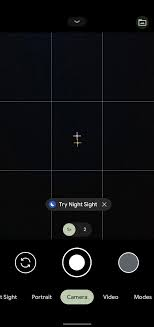camera: (61, 244, 93, 283)
